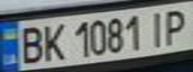0: (87, 16, 109, 56)
1: (121, 11, 145, 51), (69, 18, 90, 58)
8: (106, 15, 127, 54)
B: (12, 24, 48, 65)
I: (142, 7, 172, 47)
K: (36, 20, 69, 62)
P: (157, 6, 193, 46)
